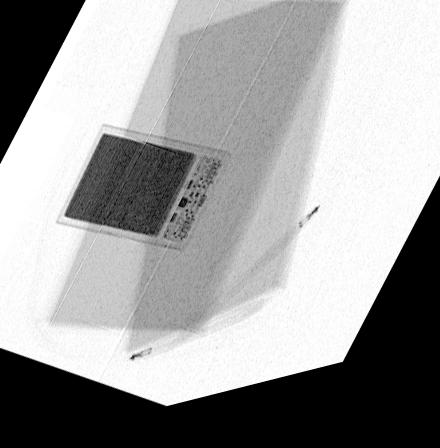Powerbank: (54, 128, 232, 262)
